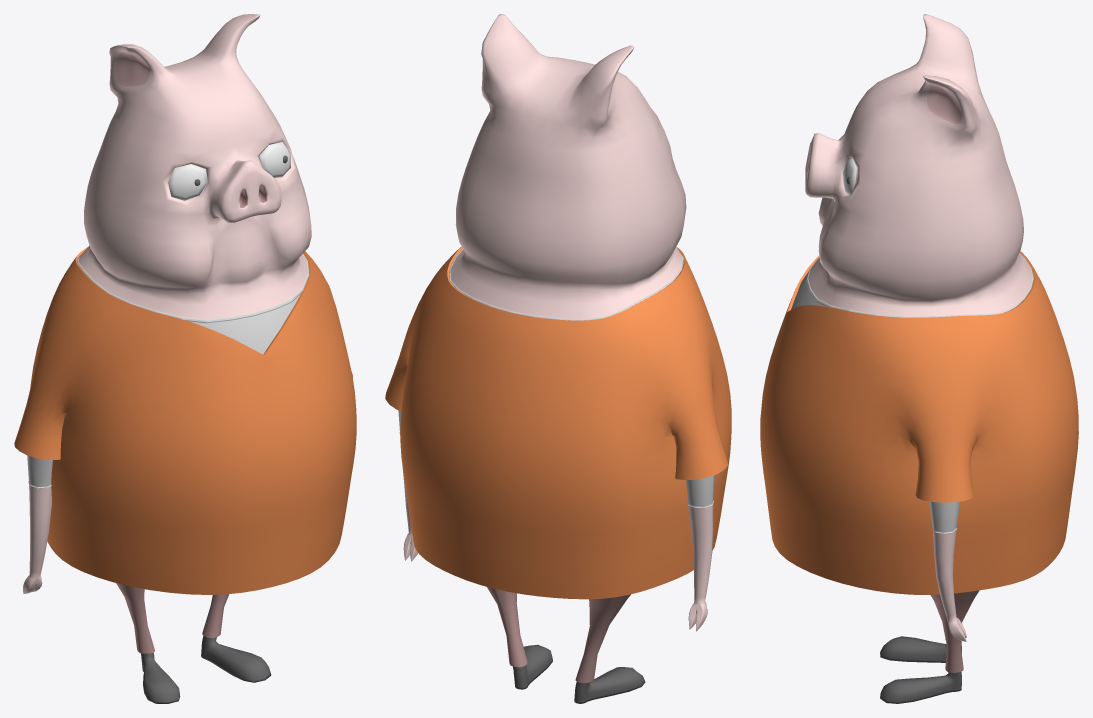
The model's file is Piggy.glb.
The picture shows the model from 3 angles, left to right: view 1: azimuth 30°, elevation 25°; view 2: azimuth 150°, elevation 25°; view 3: azimuth 270°, elevation 25°; orthographic projection. The views are drawn at different scales.
Visible parts, largest first — view 1: piggy; view 2: piggy; view 3: piggy.
Boxes of the visible parts, <box> form: piggy: <box>14,14,356,703</box>; piggy: <box>385,14,731,703</box>; piggy: <box>760,14,1078,703</box>.
Bounding box in the file's own units: 1.86 × 3.46 × 1.59.
